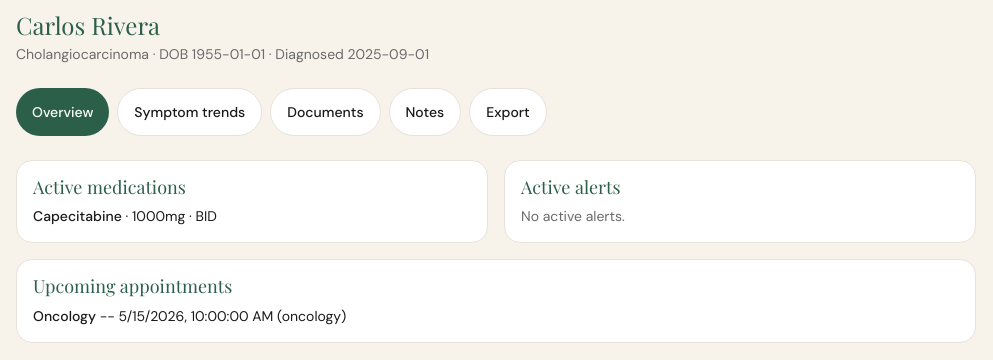
Test: ProviderPatientDetail (web) › 59. Export button is present on the Export tab
Check: the text "Capecitabine" is shown, box [33, 207, 122, 225]
Click the tab "Export": (508, 112) [469, 88, 547, 136]
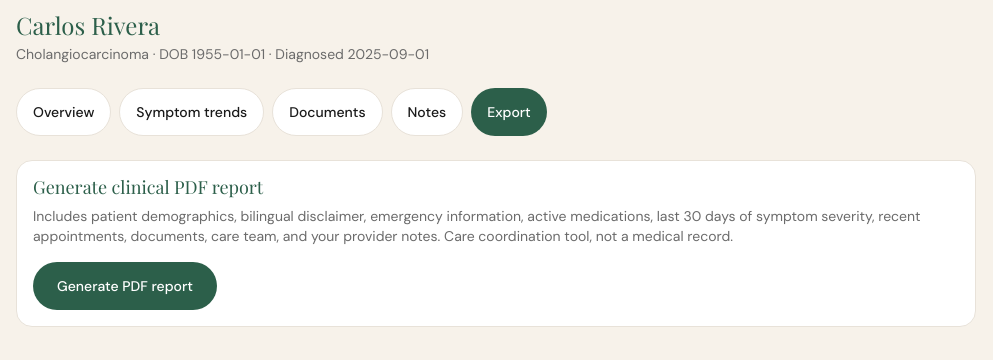
Check: the button "Generate PDF report" is shown, box [33, 262, 217, 310]
